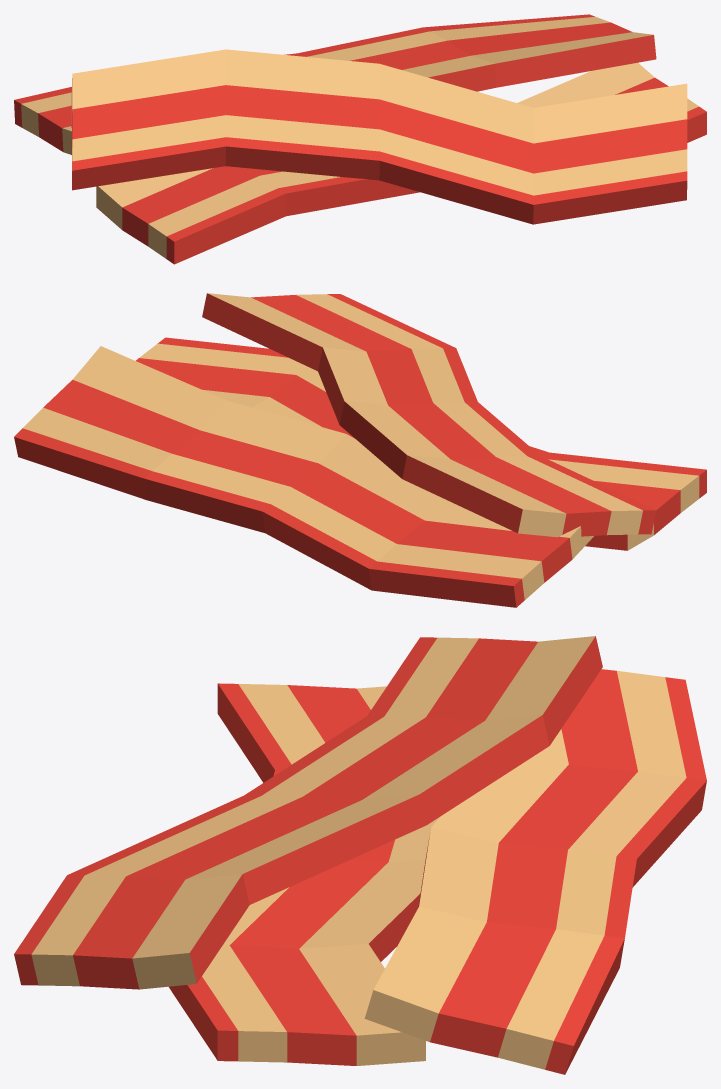
The model's file is Bacon_01.obj.
The picture shows the model from 3 angles, top to bottom: view 1: azimuth 30°, elevation 25°; view 2: azimuth 150°, elevation 25°; view 3: azimuth 270°, elevation 25°; orthographic projection. The views are drawn at different scales.
Visible parts, largest first — view 1: Bacon_Cube.034; view 2: Bacon_Cube.034; view 3: Bacon_Cube.034.
Boxes of the visible parts, left/top/right/bottom form: Bacon_Cube.034: left=14, top=14, right=706, bottom=264; Bacon_Cube.034: left=14, top=293, right=706, bottom=607; Bacon_Cube.034: left=14, top=636, right=706, bottom=1074.
Size of the model in its own units: 13.84 by 2.02 by 10.83.
